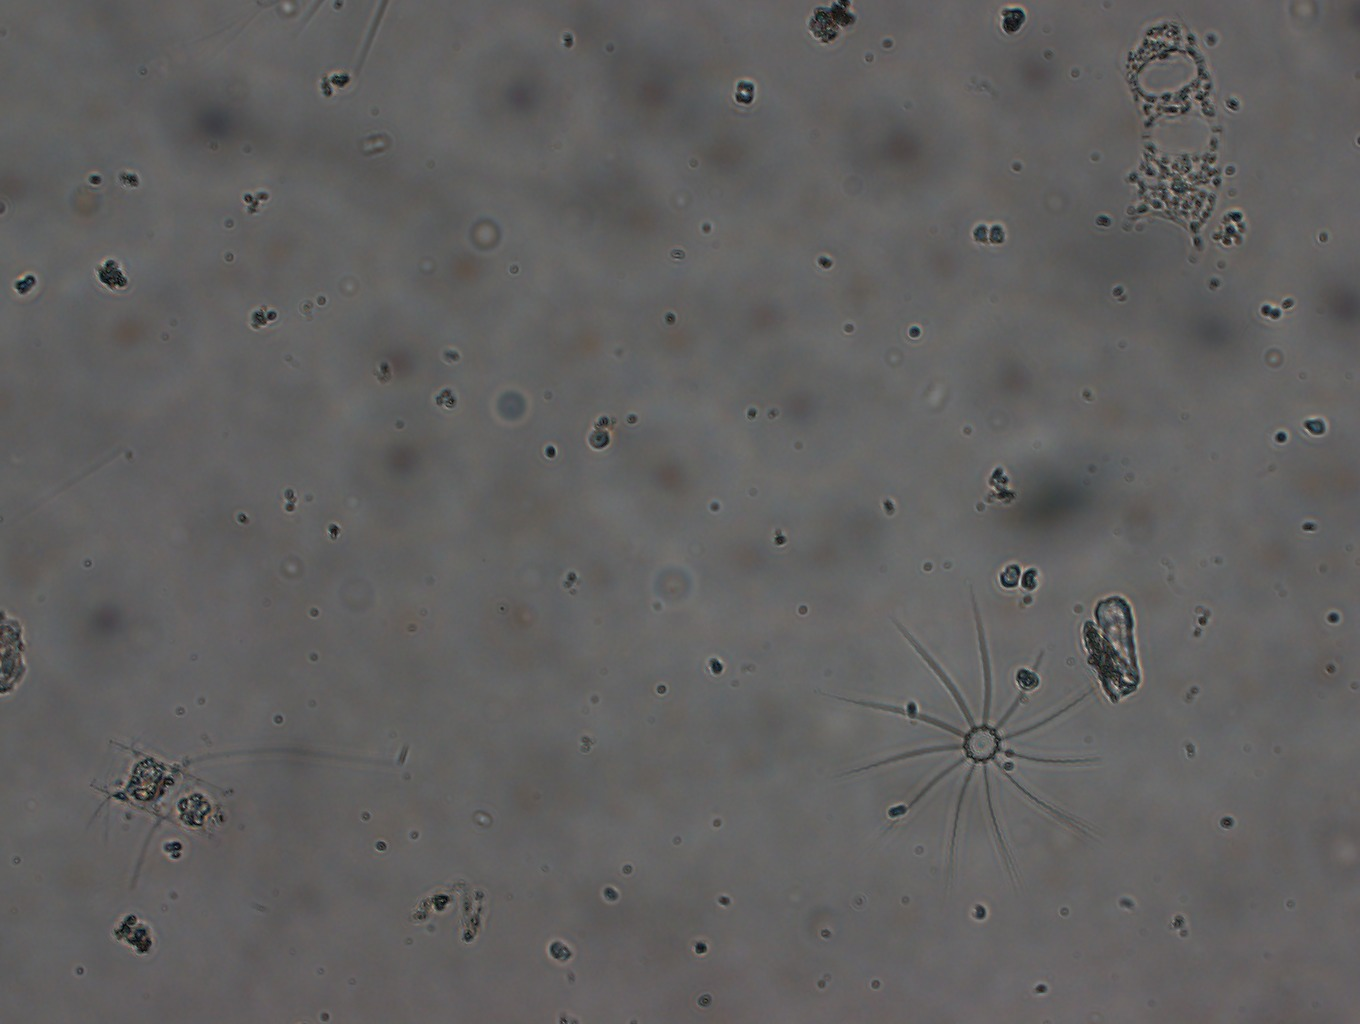bacteriastrum: (831, 574, 1103, 886)
eucampia: (1118, 15, 1225, 253)
